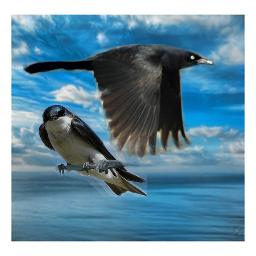Crow: (23, 42, 218, 159)
Swallow: (38, 105, 147, 197)
